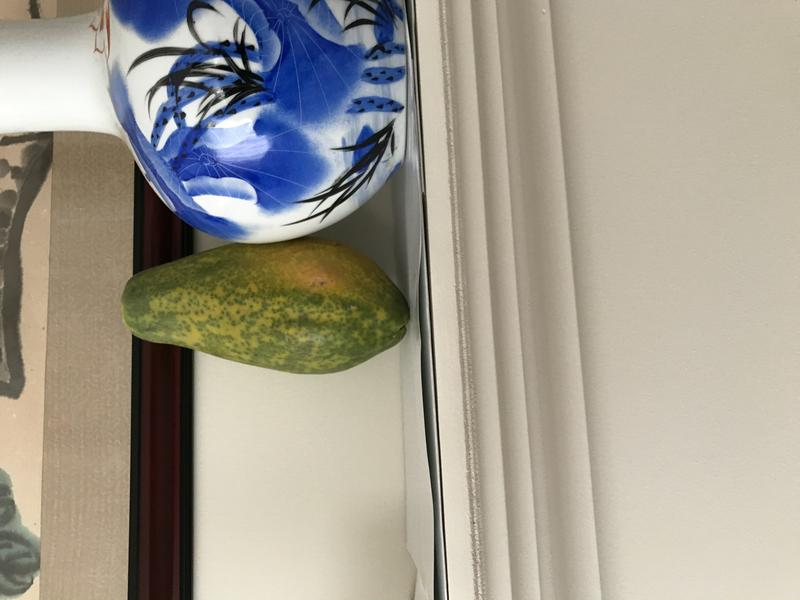papaya: (111, 231, 420, 385)
